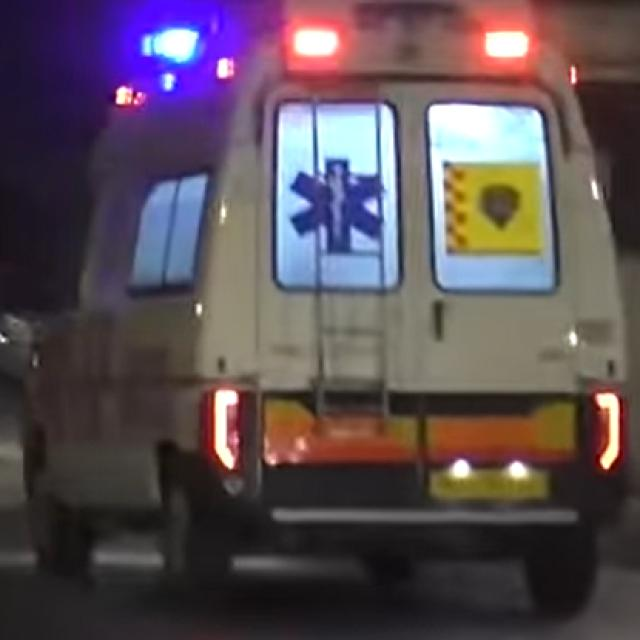ambulance: (17, 0, 635, 619)
